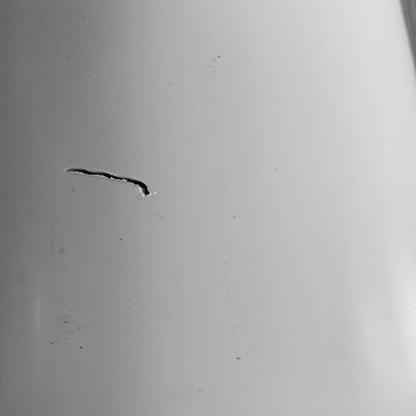fengxi: (64, 166, 151, 197)
